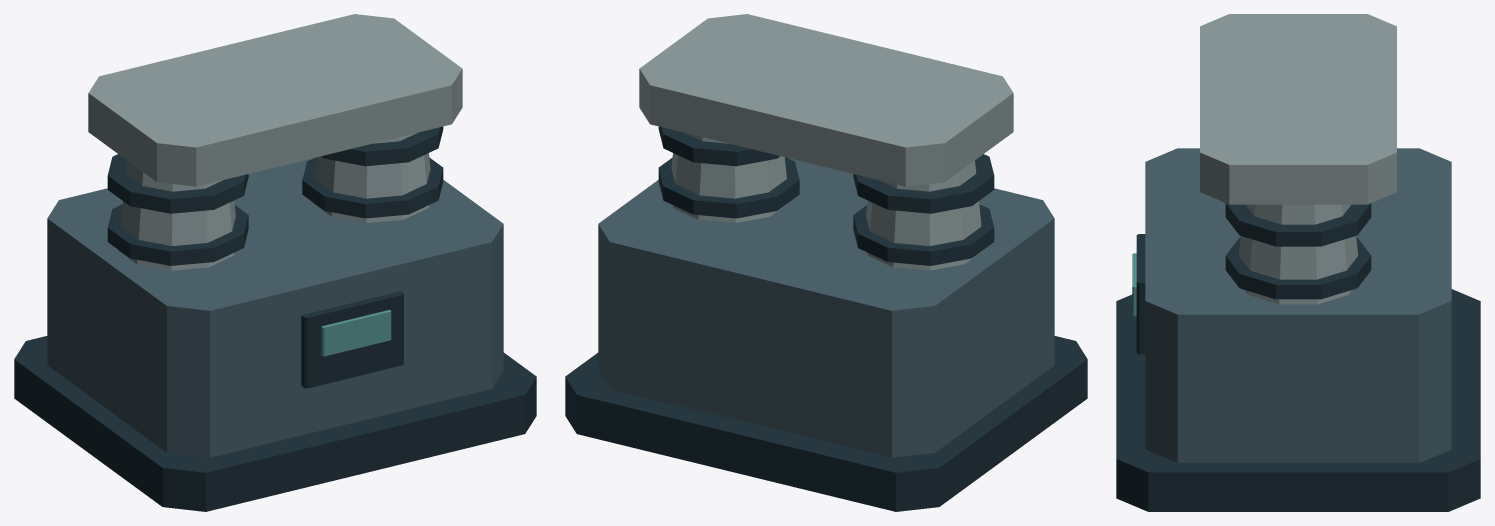
Rendered from generator.glb.
3 renders of one model, left to right at view 1: azimuth 30°, elevation 25°; view 2: azimuth 150°, elevation 25°; view 3: azimuth 270°, elevation 25°, orthographic.
Visible parts, largest first — view 1: generator; view 2: generator; view 3: generator.
Boxes of the visible parts, x1,y1,x2,y2 form: generator: [14, 14, 536, 511]; generator: [565, 14, 1087, 511]; generator: [1116, 14, 1480, 511].
Bounding box in the file's own units: 3 × 2.5 × 2.5.
